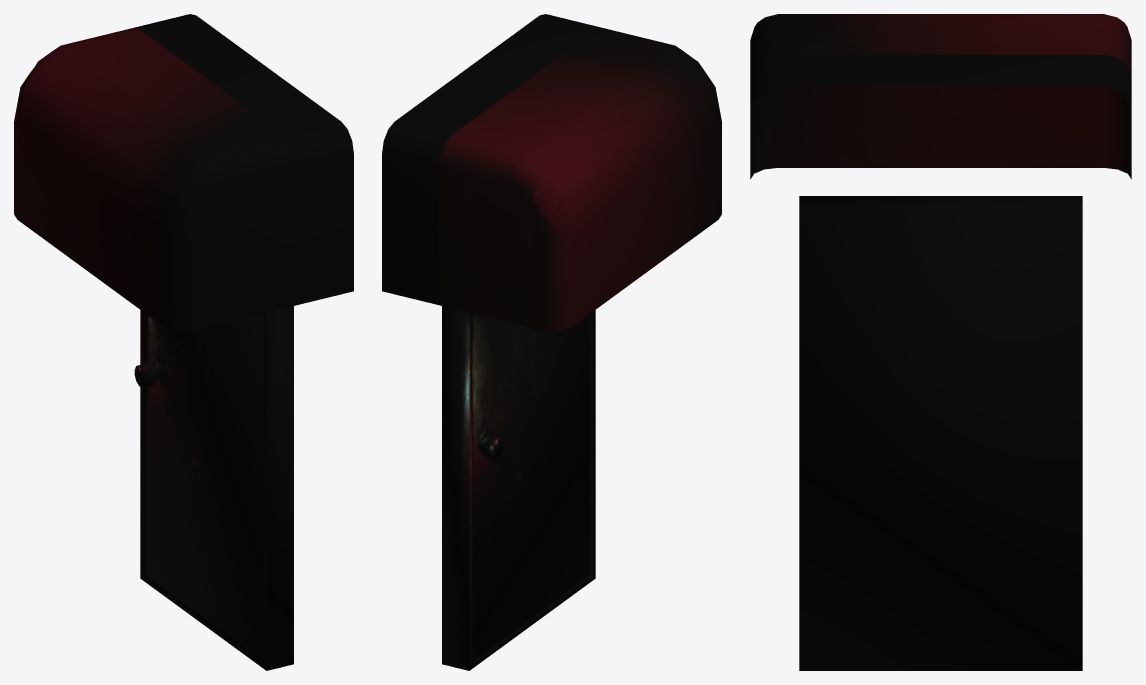
3 views of the same model, side by side, from view 1: azimuth 30°, elevation 25°; view 2: azimuth 150°, elevation 25°; view 3: azimuth 270°, elevation 25° (orthographic). The views are drawn at different scales.
Parts seen in each view (by area): view 1: Cube.047; view 2: Cube.047; view 3: Cube.047.
Boxes of the visible parts, bbox=[...] form: Cube.047: bbox=[14, 14, 353, 670]; Cube.047: bbox=[382, 14, 721, 670]; Cube.047: bbox=[750, 14, 1131, 670].
Bounding box in the file's own units: 0.9141 × 2.64 × 1.5.
1 material, 1 textured.
